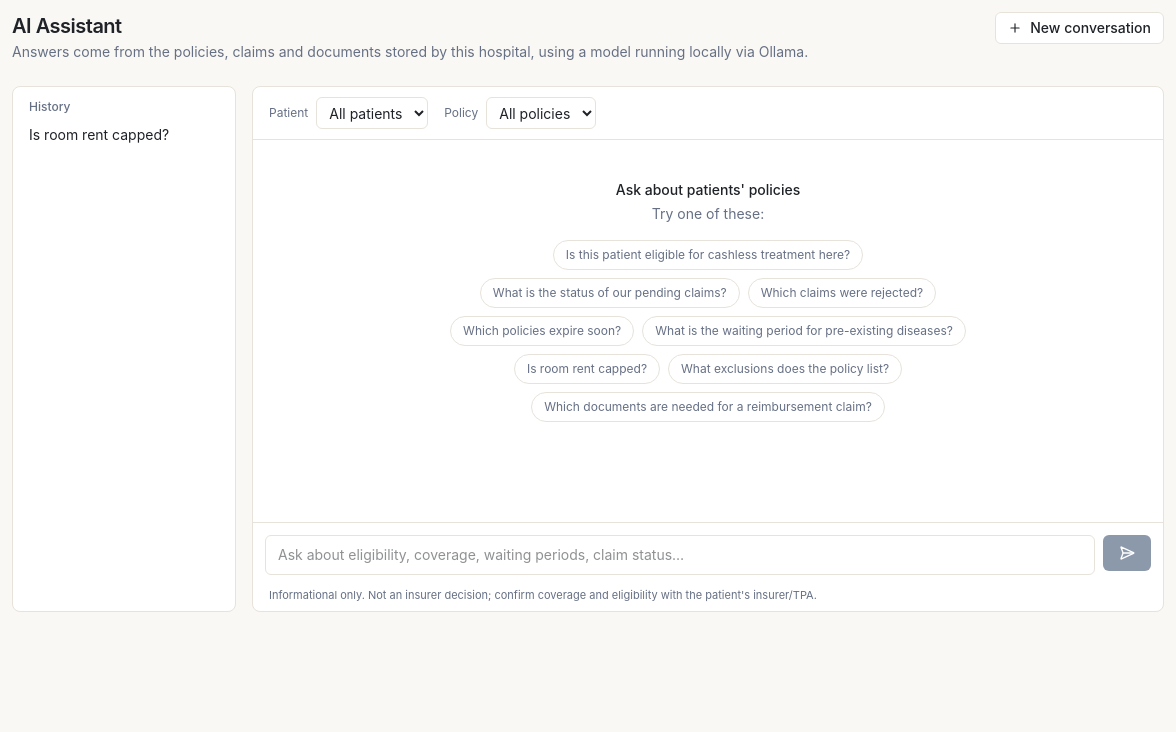
Test: assistant › shows suggested questions, and renders citations with document name and page
Check: the button "Which claims were rejected?" is shown, box x1=748 y1=278 x2=936 y2=308
Step 1. Click the button "Is room rent capped?" below "History" → (124, 135), box x1=21 y1=119 x2=227 y2=151
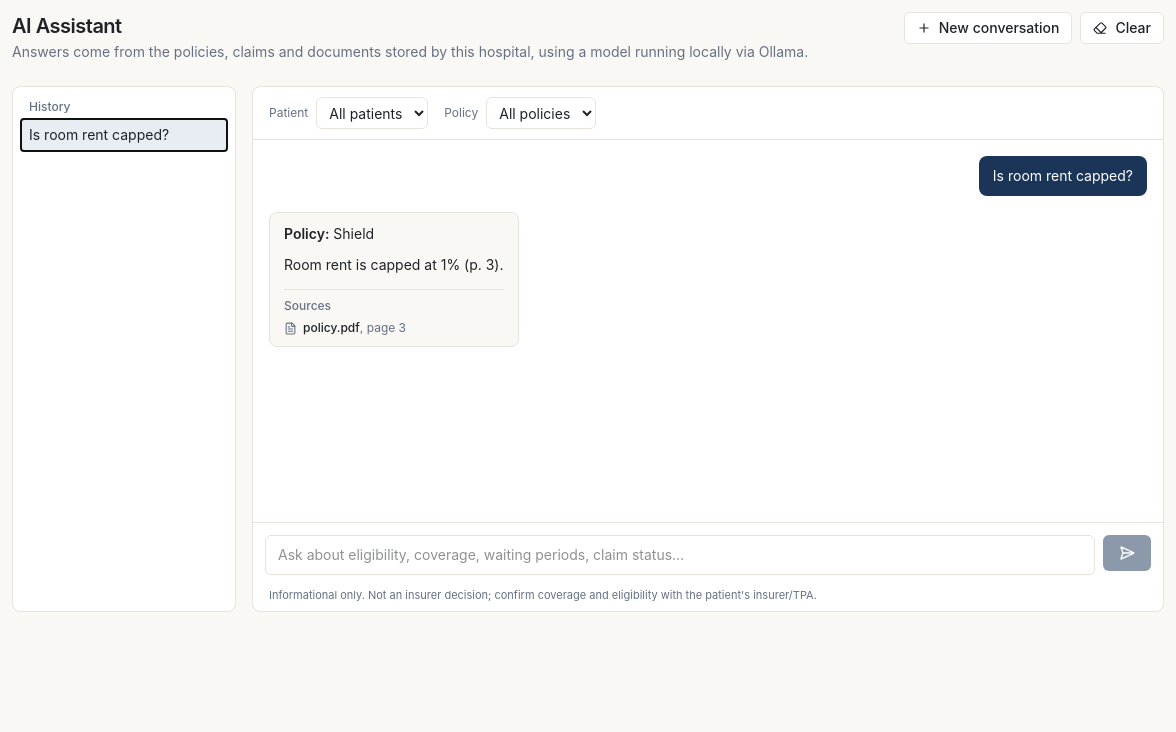
Check: the button "policy.pdf, page 3" is shown, box x1=284 y1=320 x2=504 y2=336
Step 2. Click the text "policy.pdf" → (331, 327), box x1=303 y1=320 x2=360 y2=334
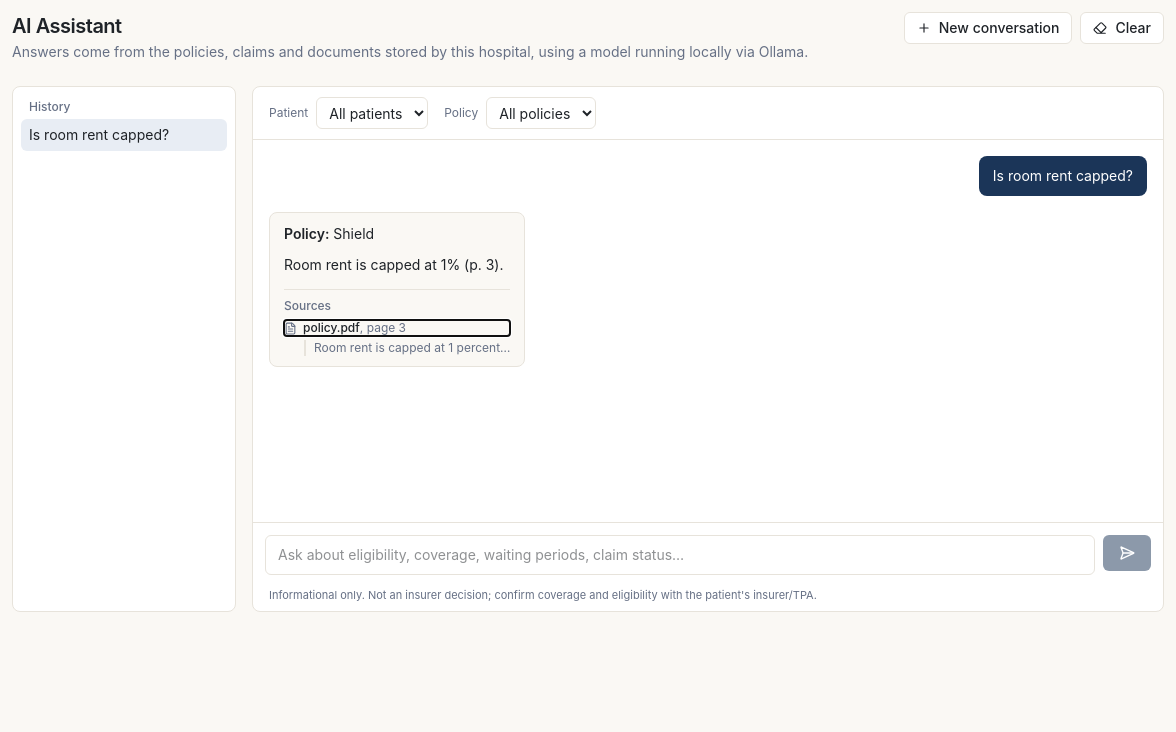
Check: the button "New conversation" is shown, box x1=904 y1=12 x2=1072 y2=44
Check: the text "Room rent is capped at 1 percent…" is shown, box x1=304 y1=340 x2=510 y2=356
